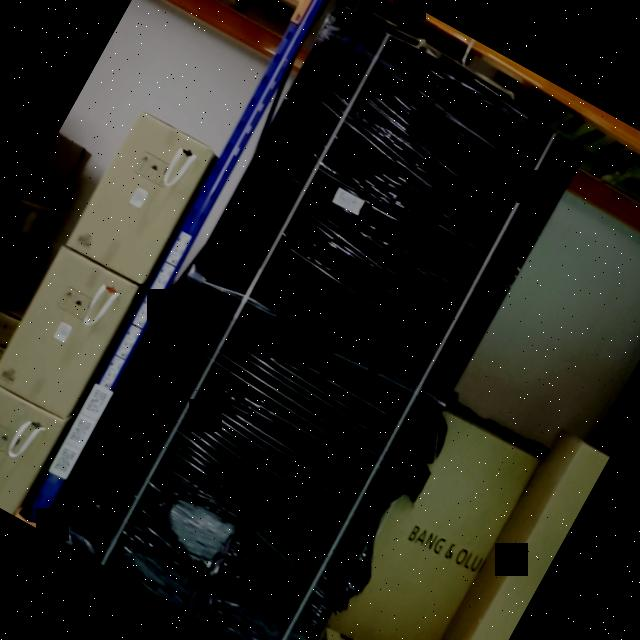box: (52, 15, 582, 640)
